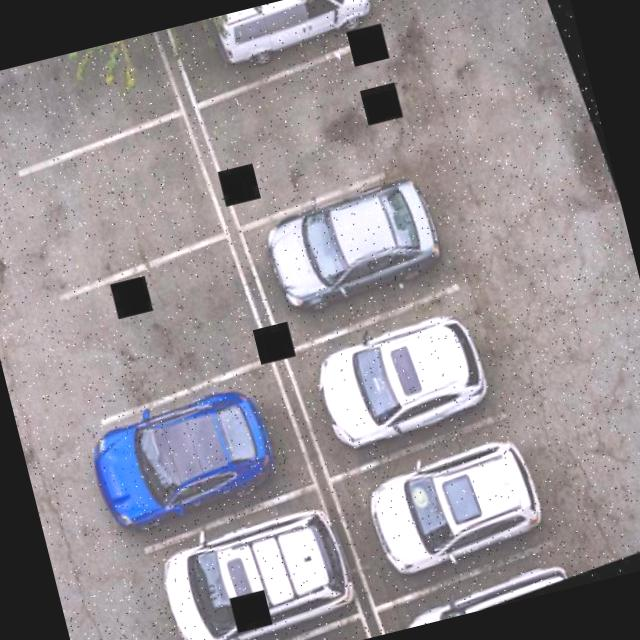empty: (42, 228, 275, 429), (189, 37, 415, 221), (10, 112, 230, 291), (0, 30, 182, 162)
occupied: (320, 414, 556, 605), (281, 288, 511, 480), (87, 356, 319, 544), (232, 164, 459, 346), (126, 475, 367, 640), (166, 0, 374, 107), (376, 546, 567, 634), (175, 613, 372, 640)
